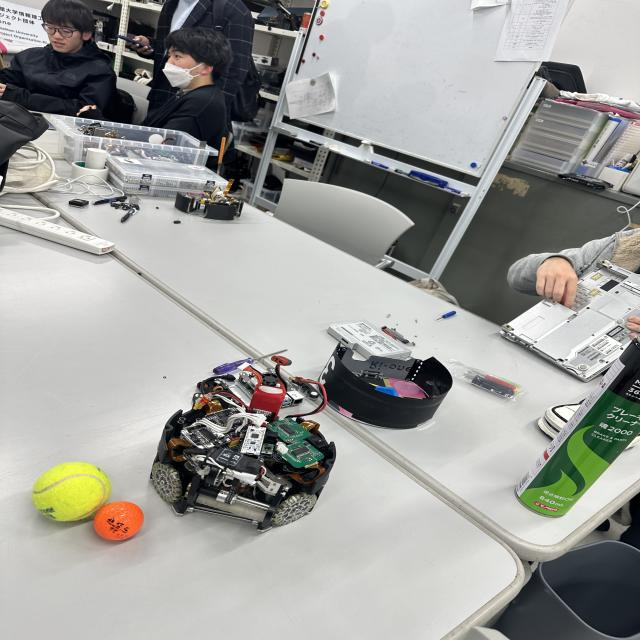ball: (92, 499, 152, 546)
